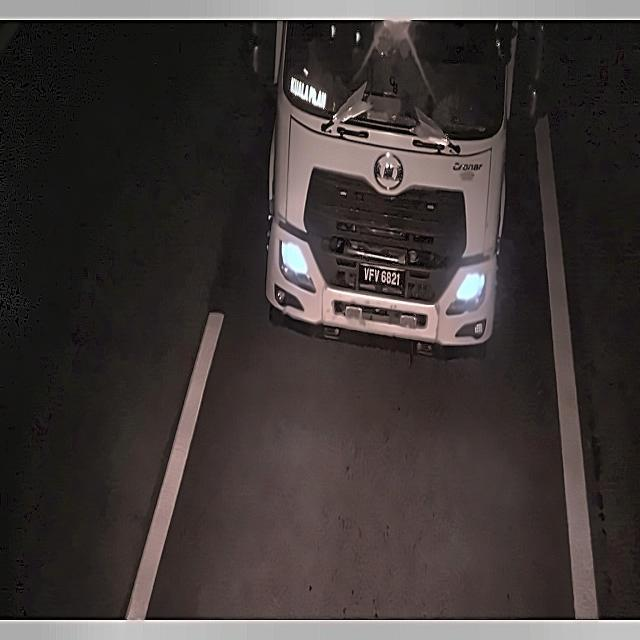car: (354, 259, 410, 296)
